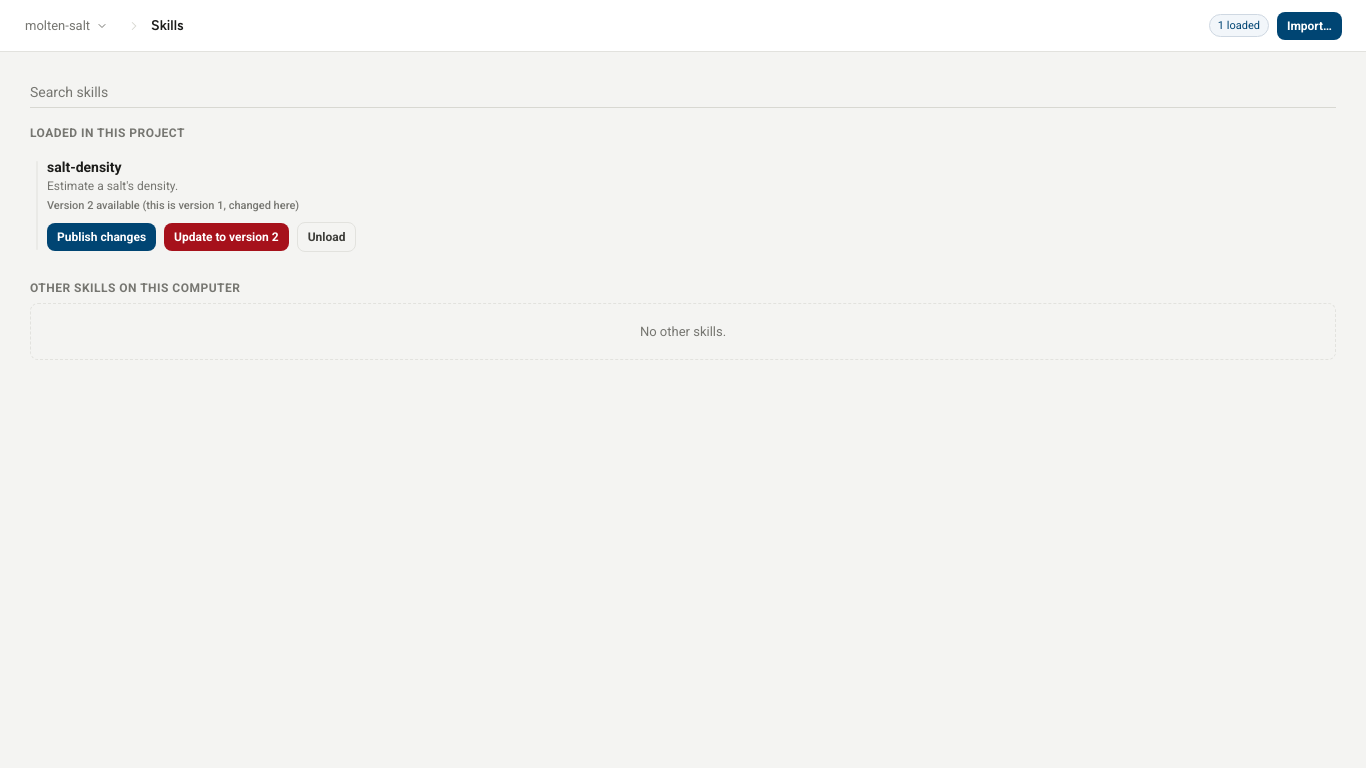
Scenario: the Skills page › offers the three choices when the server's head has moved on
This screenshot has width=1366, height=768.
expect the text "Version 2 available (this is version 1, changed here)" is shown: met, box [47,199,299,212]
Click the button "Publish changes" at (102, 237), box [47,223,156,251]
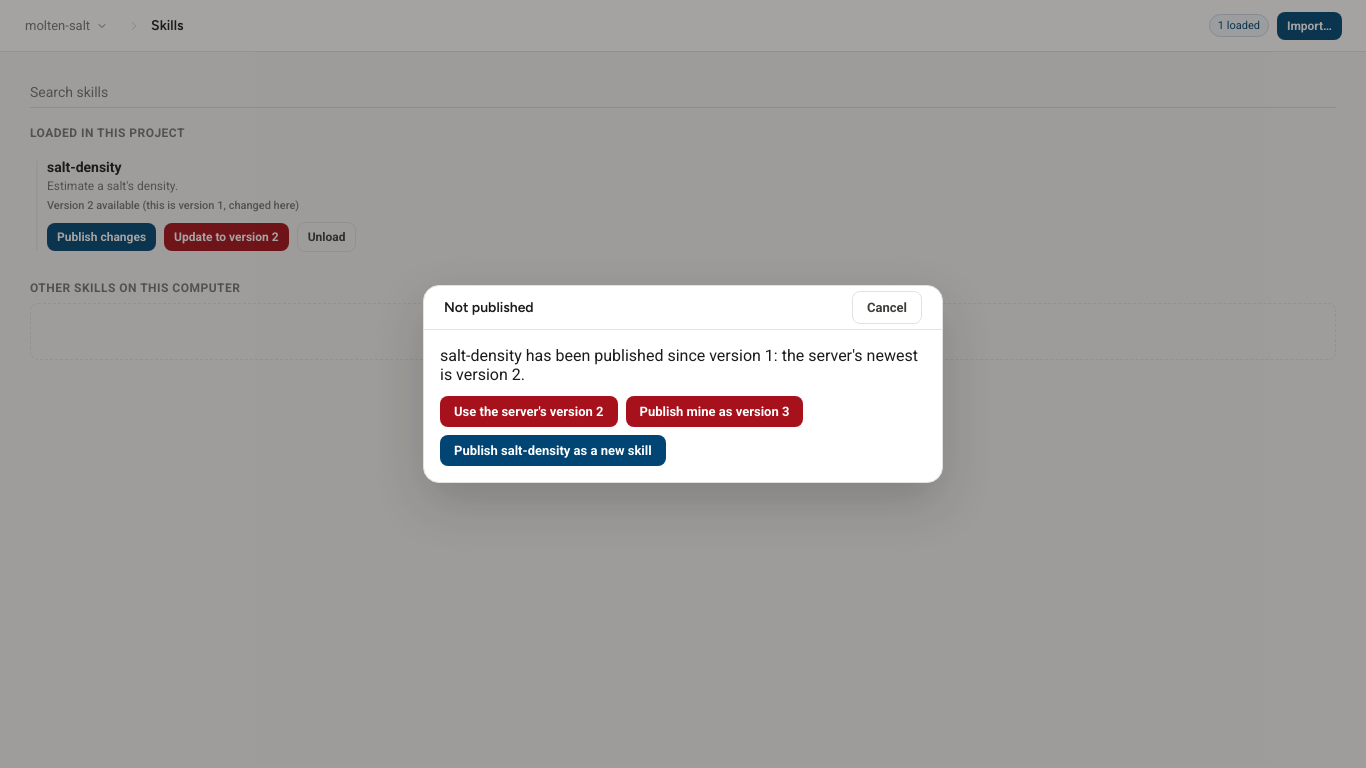
expect the button "Use the server's version 2" is shown: met, box [440,396,618,427]
expect the button "Publish salt-density as a new skill" is shown: met, box [440,435,666,466]
Click the button "Publish mine as version 3" at (715, 412), box [626,396,804,427]
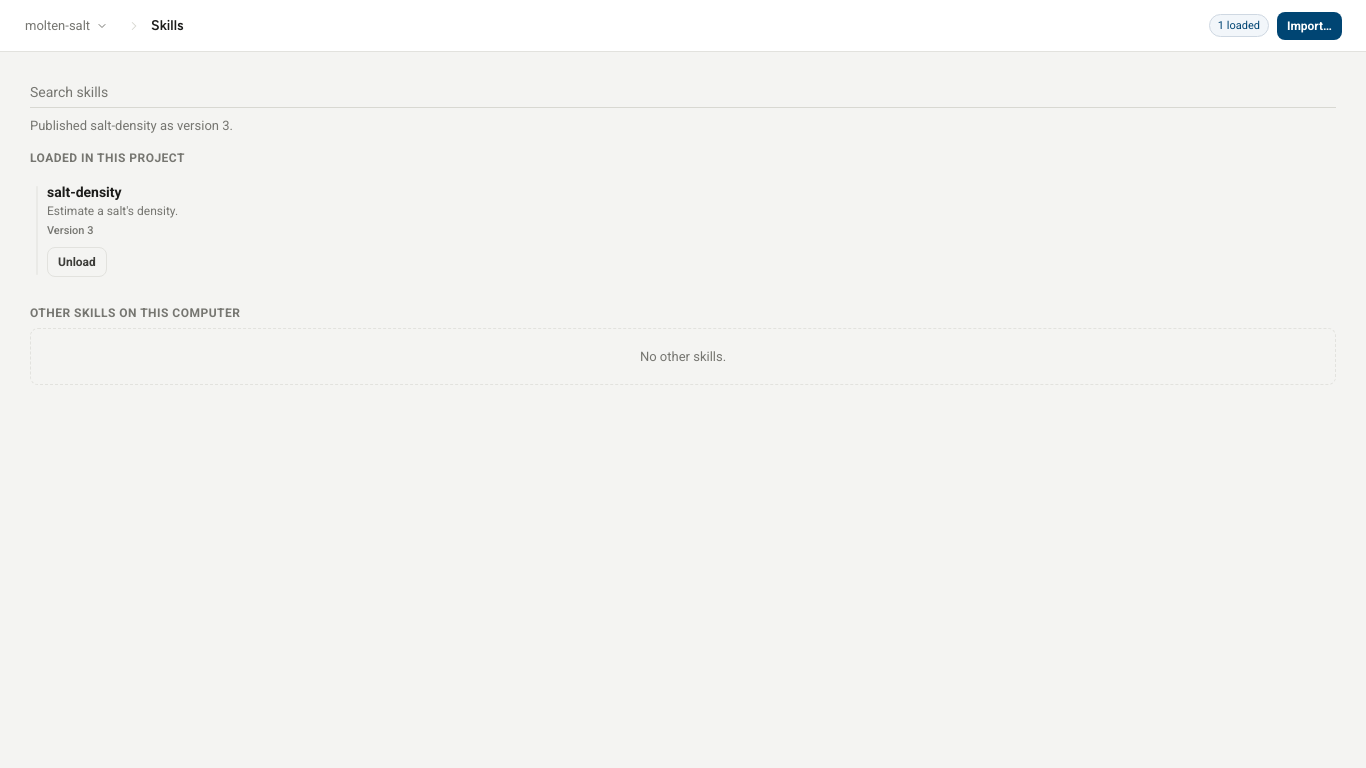
expect the text "Published salt-density as version 3." is shown: met, box [30,118,233,133]
